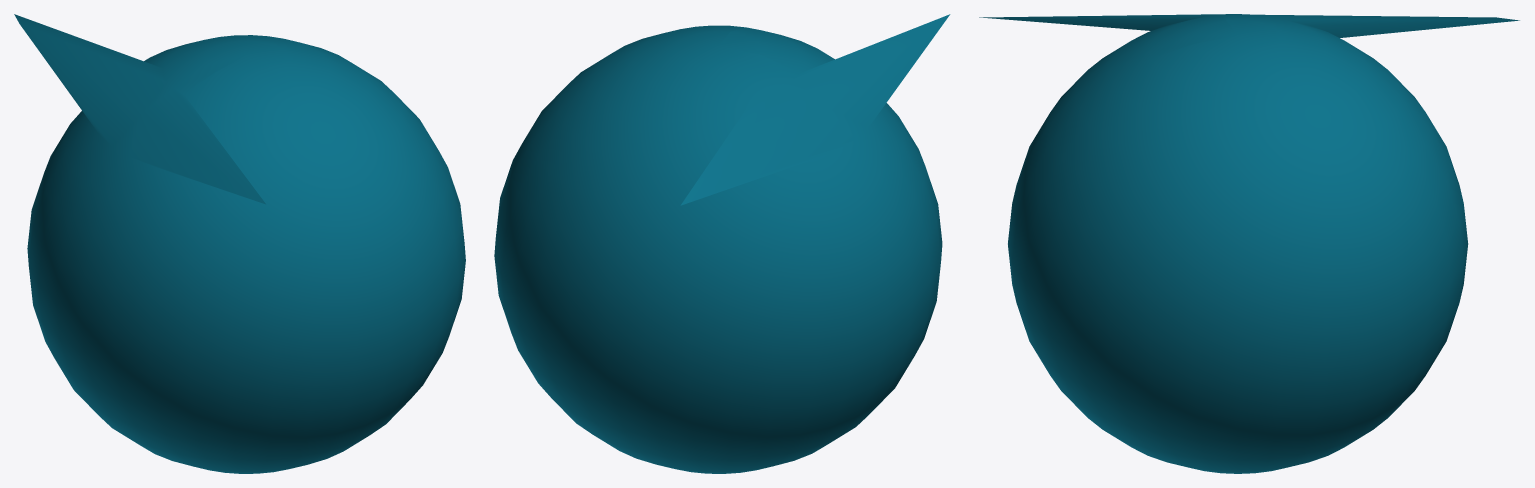
File: yuan.obj
3 views of the same model, side by side, from view 1: azimuth 30°, elevation 25°; view 2: azimuth 150°, elevation 25°; view 3: azimuth 270°, elevation 25° (orthographic). The views are drawn at different scales.
Parts seen in each view (by area): view 1: Sphere001; view 2: Sphere001; view 3: Sphere001.
Boxes of the visible parts, x1,y1,x2,y2 form: Sphere001: (14, 14, 465, 473); Sphere001: (494, 14, 950, 473); Sphere001: (979, 14, 1519, 473).
Size of the model in its own units: 394 by 394 by 463.
